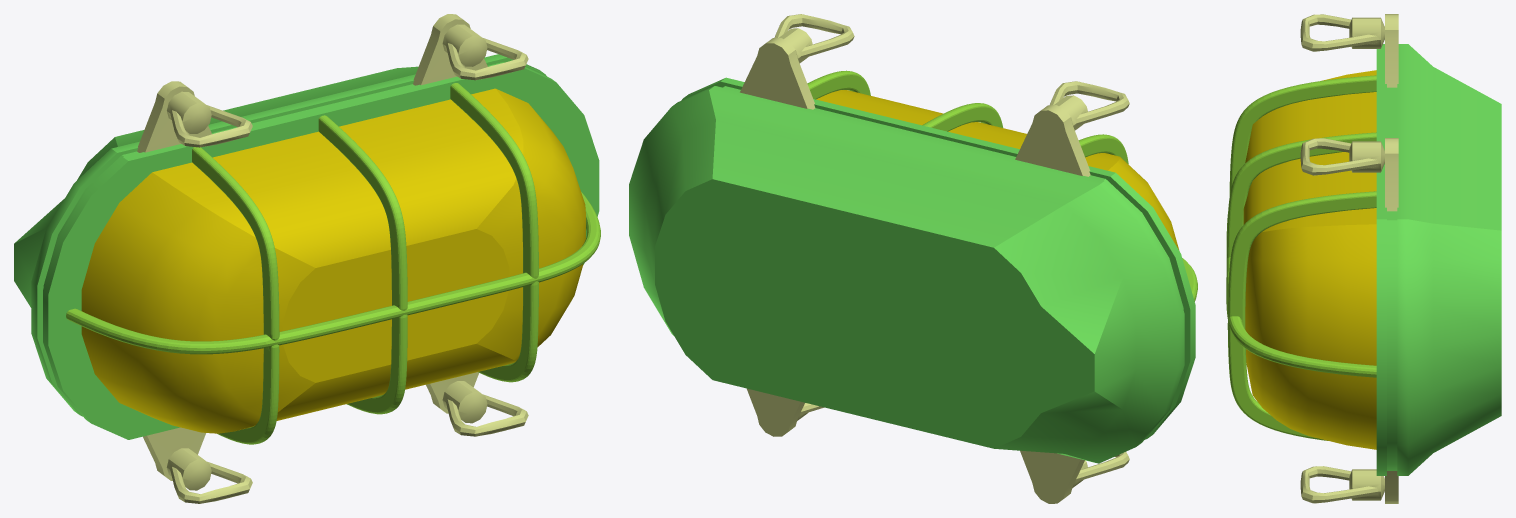
Rendered from svetlo_stena.fbx.
3 views of the same model, side by side, from view 1: azimuth 30°, elevation 25°; view 2: azimuth 150°, elevation 25°; view 3: azimuth 270°, elevation 25° (orthographic). The views are drawn at different scales.
Visible parts, largest first — view 1: NurbsPath; view 2: NurbsPath; view 3: NurbsPath.
Part boxes in pixels (x1,y1,x2,y2): NurbsPath: (14,14,600,503); NurbsPath: (629,14,1197,503); NurbsPath: (1226,14,1501,503).
Size of the model in its own units: 29.24 by 20 by 13.76.
